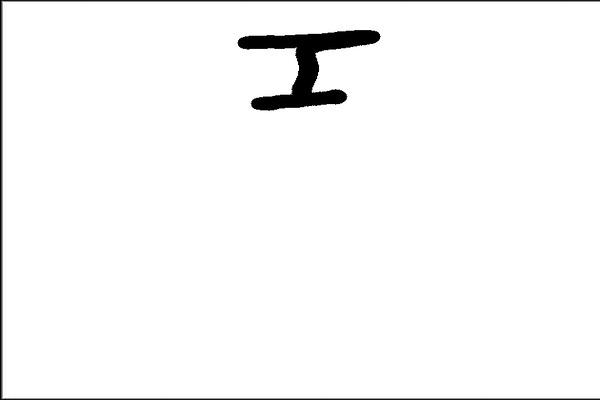i: (230, 18, 387, 116)
